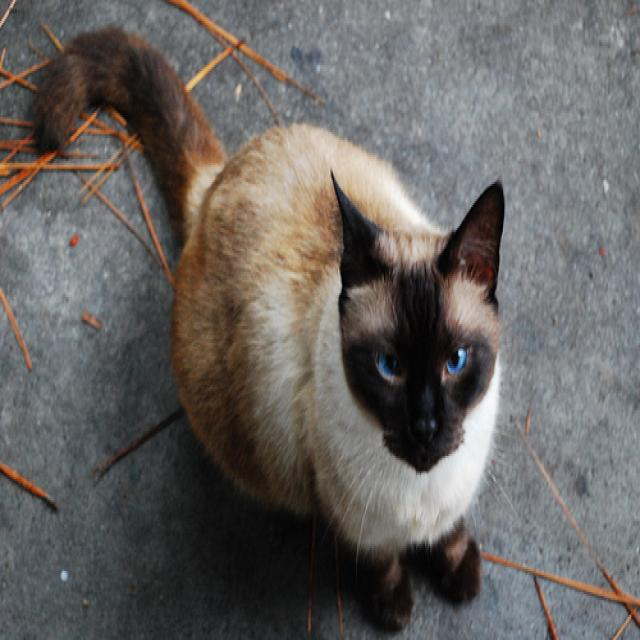Siamese: (328, 165, 503, 469)
